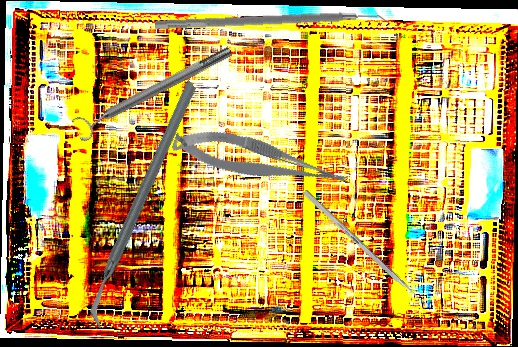Chopper: (16, 78, 272, 330)
Fixation Ring: (69, 39, 238, 144)
Micro Scissor: (169, 114, 352, 209)
Pusher: (302, 189, 434, 313)
Spatula Surgical: (154, 7, 391, 40)
